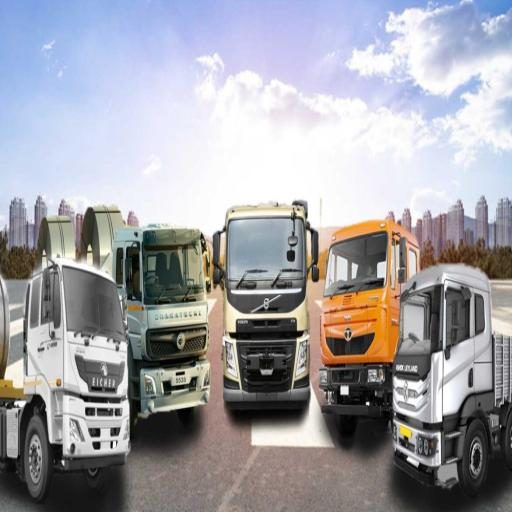truck: (0, 201, 512, 503)
